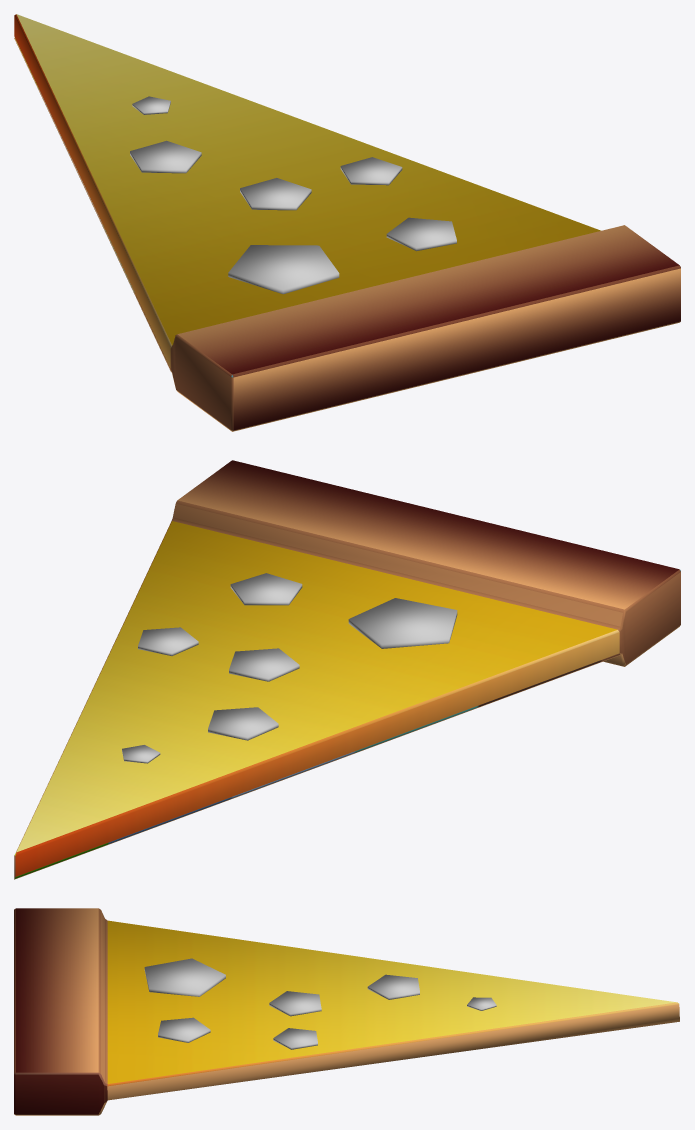
Rendered from PizzaSlice.fbx.
3 views of the same model, one above another, from view 1: azimuth 30°, elevation 25°; view 2: azimuth 150°, elevation 25°; view 3: azimuth 270°, elevation 25° (orthographic). The views are drawn at different scales.
Visible parts, largest first — view 1: pizza; view 2: pizza; view 3: pizza.
Boxes of the visible parts, left/top/right/bottom form: pizza: left=14, top=14, right=680, bottom=431; pizza: left=14, top=460, right=680, bottom=879; pizza: left=14, top=908, right=679, bottom=1115.
Size of the model in its own units: 56.36 by 6.88 by 96.16.
